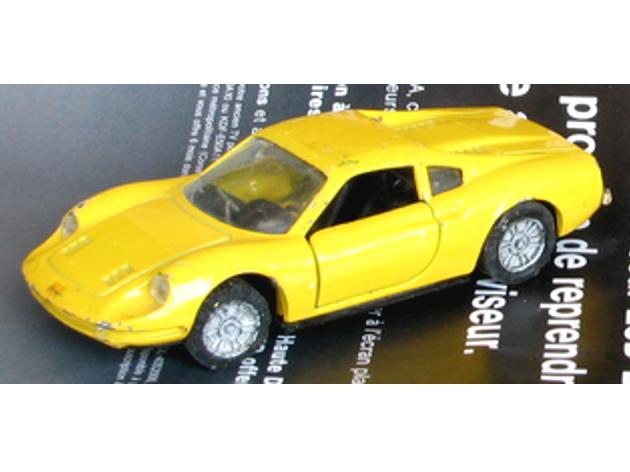toy-car: (20, 104, 607, 371)
